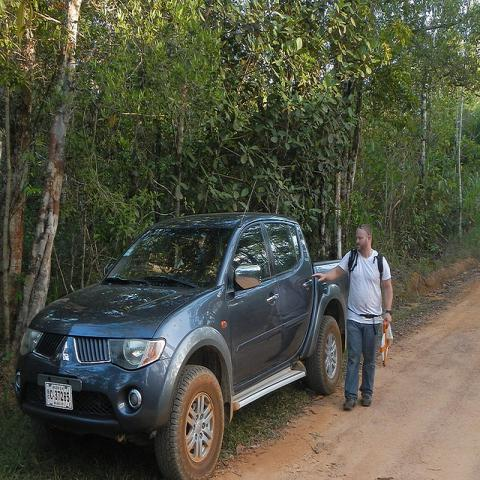truck: (13, 211, 346, 475)
